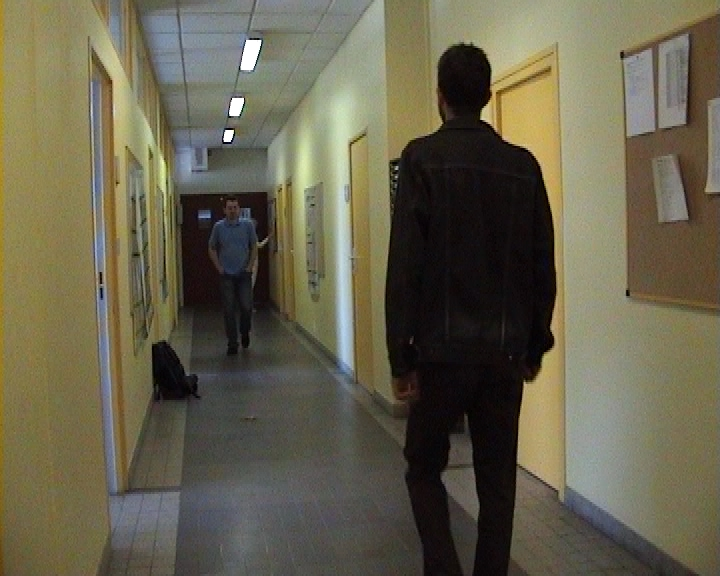leave bag unattended: (133, 327, 213, 419)
